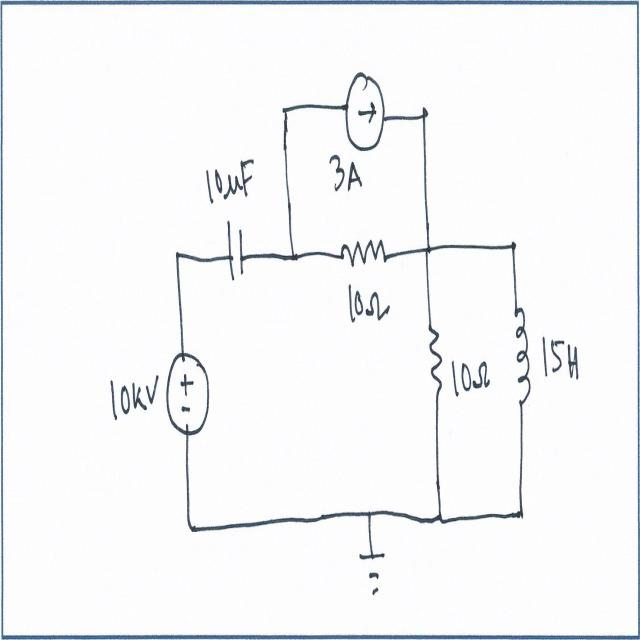capacitor: (224, 214, 245, 289)
current_source: (340, 64, 390, 154)
ground: (357, 545, 389, 598)
inductor: (511, 298, 534, 418)
resistor: (334, 230, 392, 274), (424, 307, 444, 404)
voltage_source: (163, 349, 214, 439)
